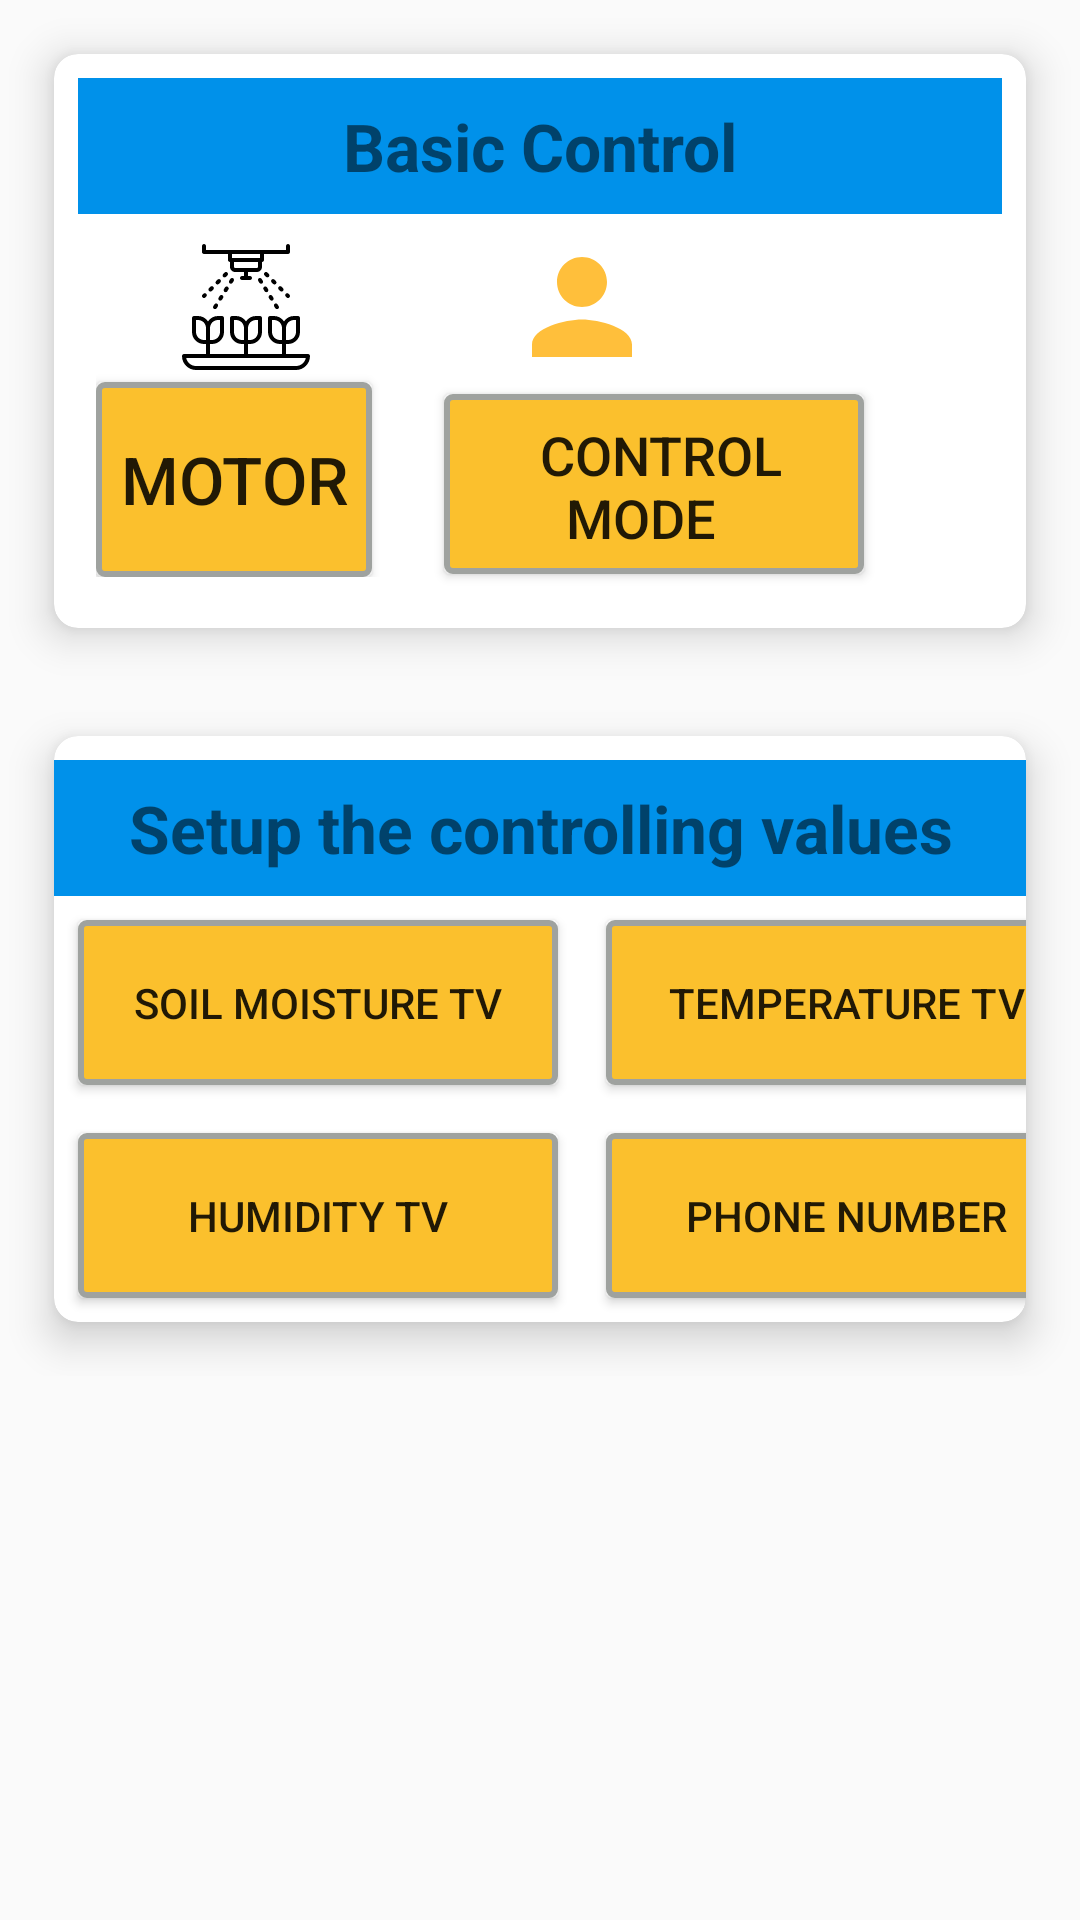

Point at icon controls on the screen. Image size 1080*1920, points as [x,y].
person: [582,307]
sprinklers: [246,307]
